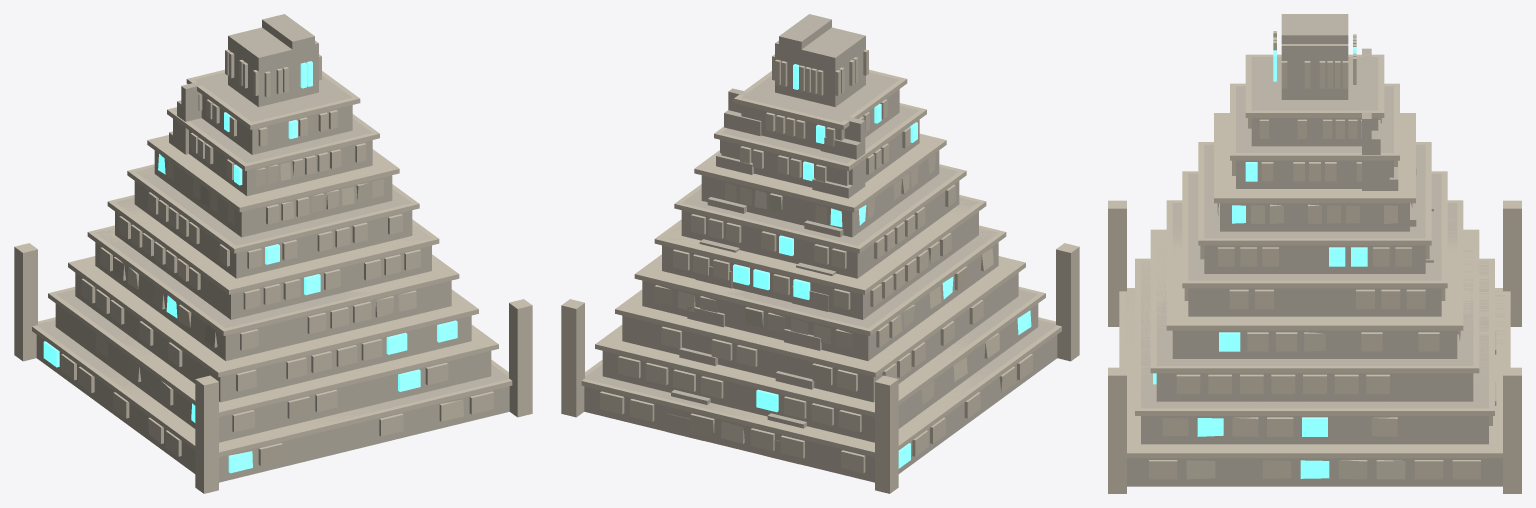
Rendered from alien_great_pyramid.glb.
3 views of the same model, side by side, from view 1: azimuth 30°, elevation 25°; view 2: azimuth 150°, elevation 25°; view 3: azimuth 270°, elevation 25° (orthographic). The views are drawn at different scales.
Visible parts, largest first — view 1: alien_great_pyramid; view 2: alien_great_pyramid; view 3: alien_great_pyramid.
Boxes of the visible parts, x1,y1,x2,y2 form: alien_great_pyramid: [14, 14, 532, 493]; alien_great_pyramid: [561, 14, 1079, 493]; alien_great_pyramid: [1108, 14, 1521, 493].
Size of the model in its own units: 17.44 by 17.9 by 17.44.
